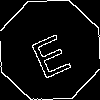E: (25, 25, 73, 80)
